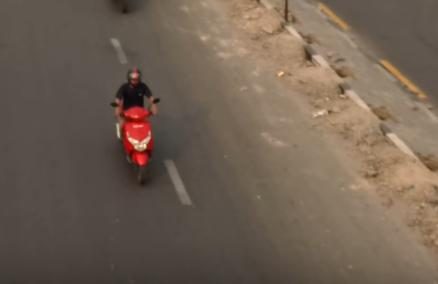scooter: (103, 93, 168, 183)
